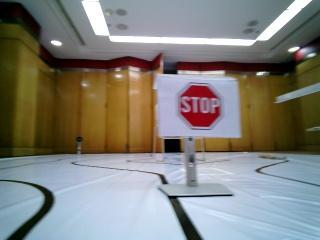stop: (165, 77, 238, 136)
